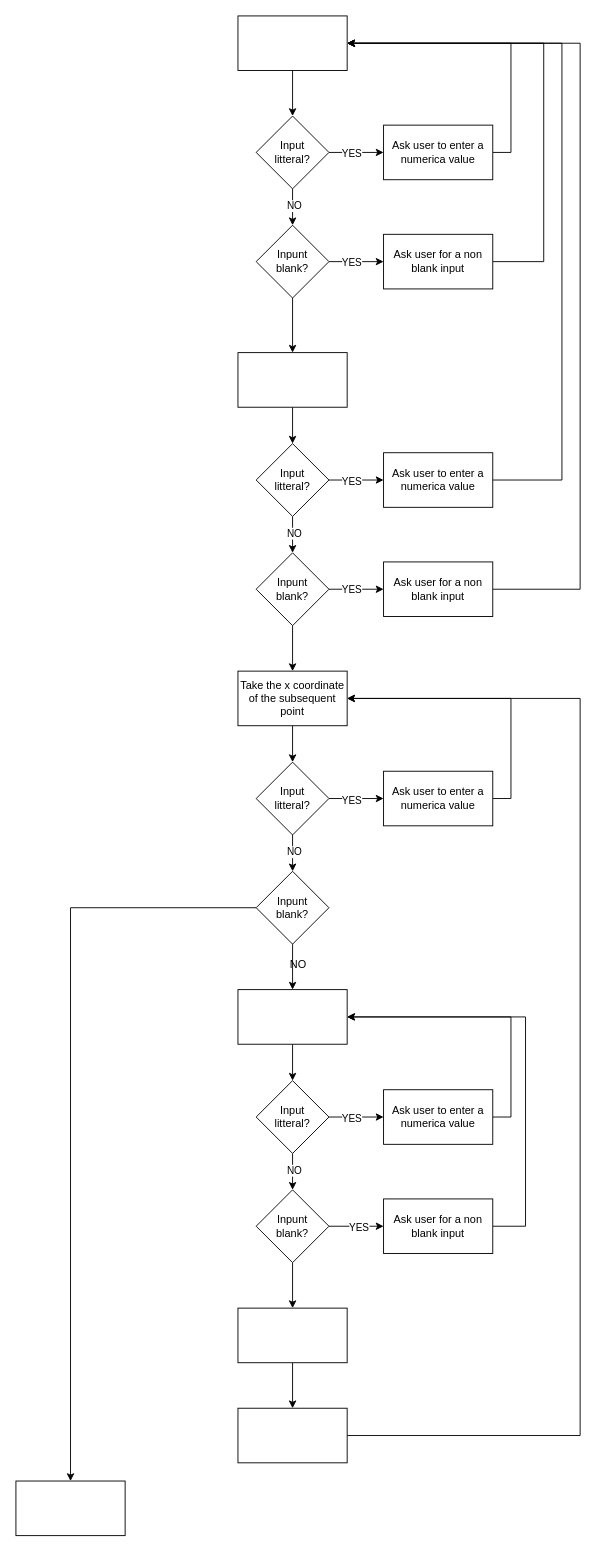
This 603x1552 diagram has some shape labels left out. The shapes that lost their labels are listed below. From the top down, each one's centre as x and y in pixels, then its label:
(x=292, y=43): Take first x coordinate from user
(x=292, y=379): Take first y coordinate from user
(x=292, y=1016): Take the y coordinate of the subsequent point
(x=292, y=1335): Compute distance from the previous point
(x=292, y=1435): Add distance to the perimiter
(x=70, y=1508): Print perimiter of the polygon
